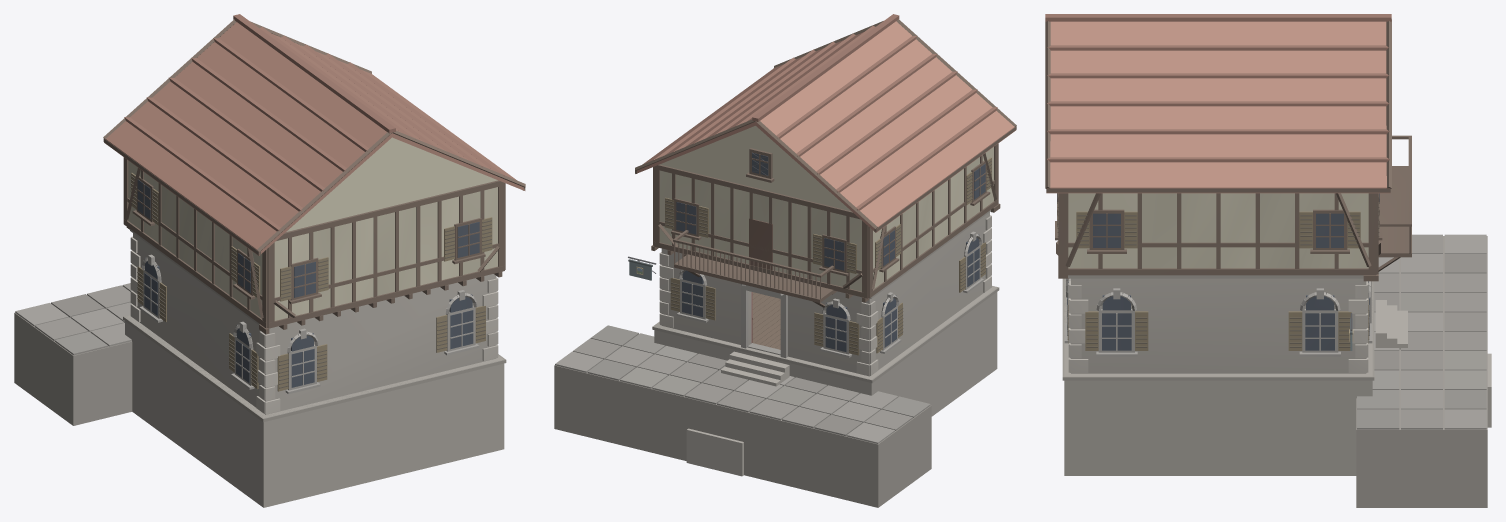
File: gallery_2.gltf
3 views of the same model, side by side, from view 1: azimuth 30°, elevation 25°; view 2: azimuth 150°, elevation 25°; view 3: azimuth 270°, elevation 25° (orthographic). The views are drawn at different scales.
Parts seen in each view (by area): view 1: Body; view 2: Body; view 3: Body.
Part boxes in pixels (left/top/right/bottom): Body: left=14, top=14, right=525, bottom=507; Body: left=554, top=14, right=1016, bottom=507; Body: left=1045, top=14, right=1491, bottom=507.
Size of the model in its own units: 14 by 13.29 by 13.61.
